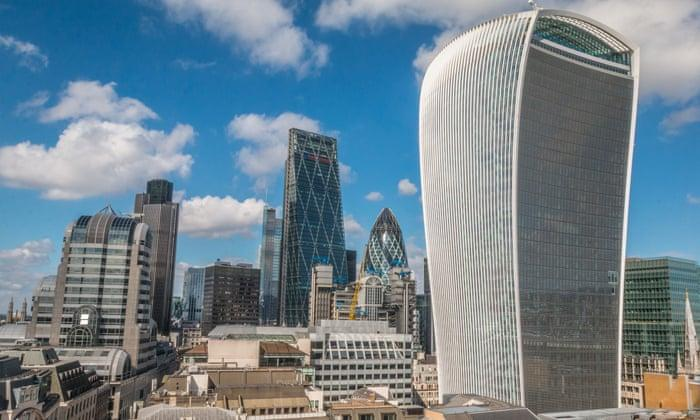Walkie talkie: (408, 3, 644, 407)
